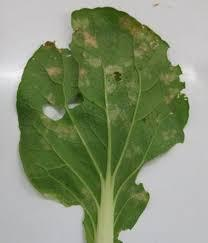Bok-Choy-Diseased: (10, 5, 186, 243)
